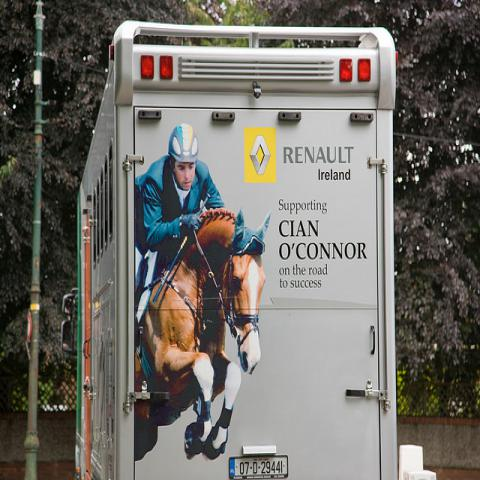truck: (77, 21, 398, 479)
